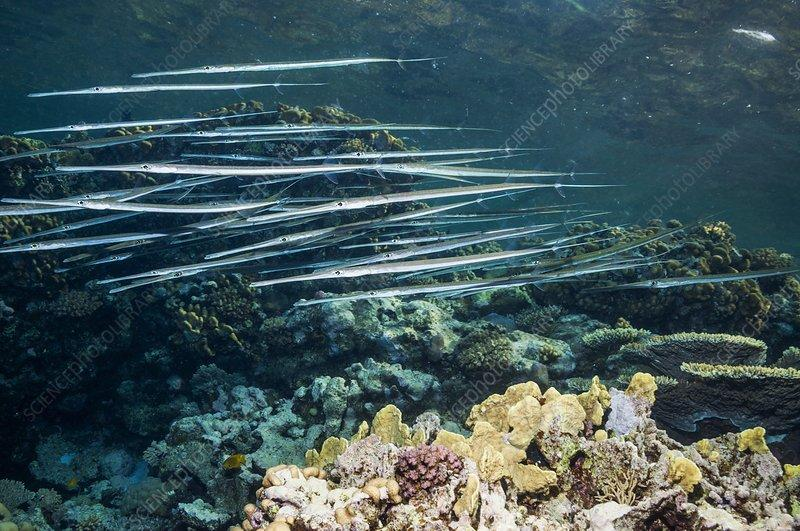Fistularia commersonii: (193, 174, 653, 242), (243, 258, 575, 318), (0, 64, 366, 100), (96, 54, 523, 83)
